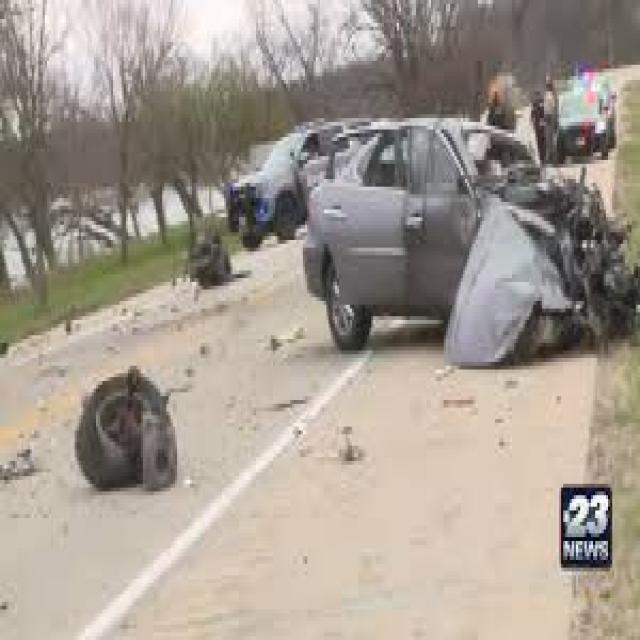accident: (296, 106, 640, 388)
